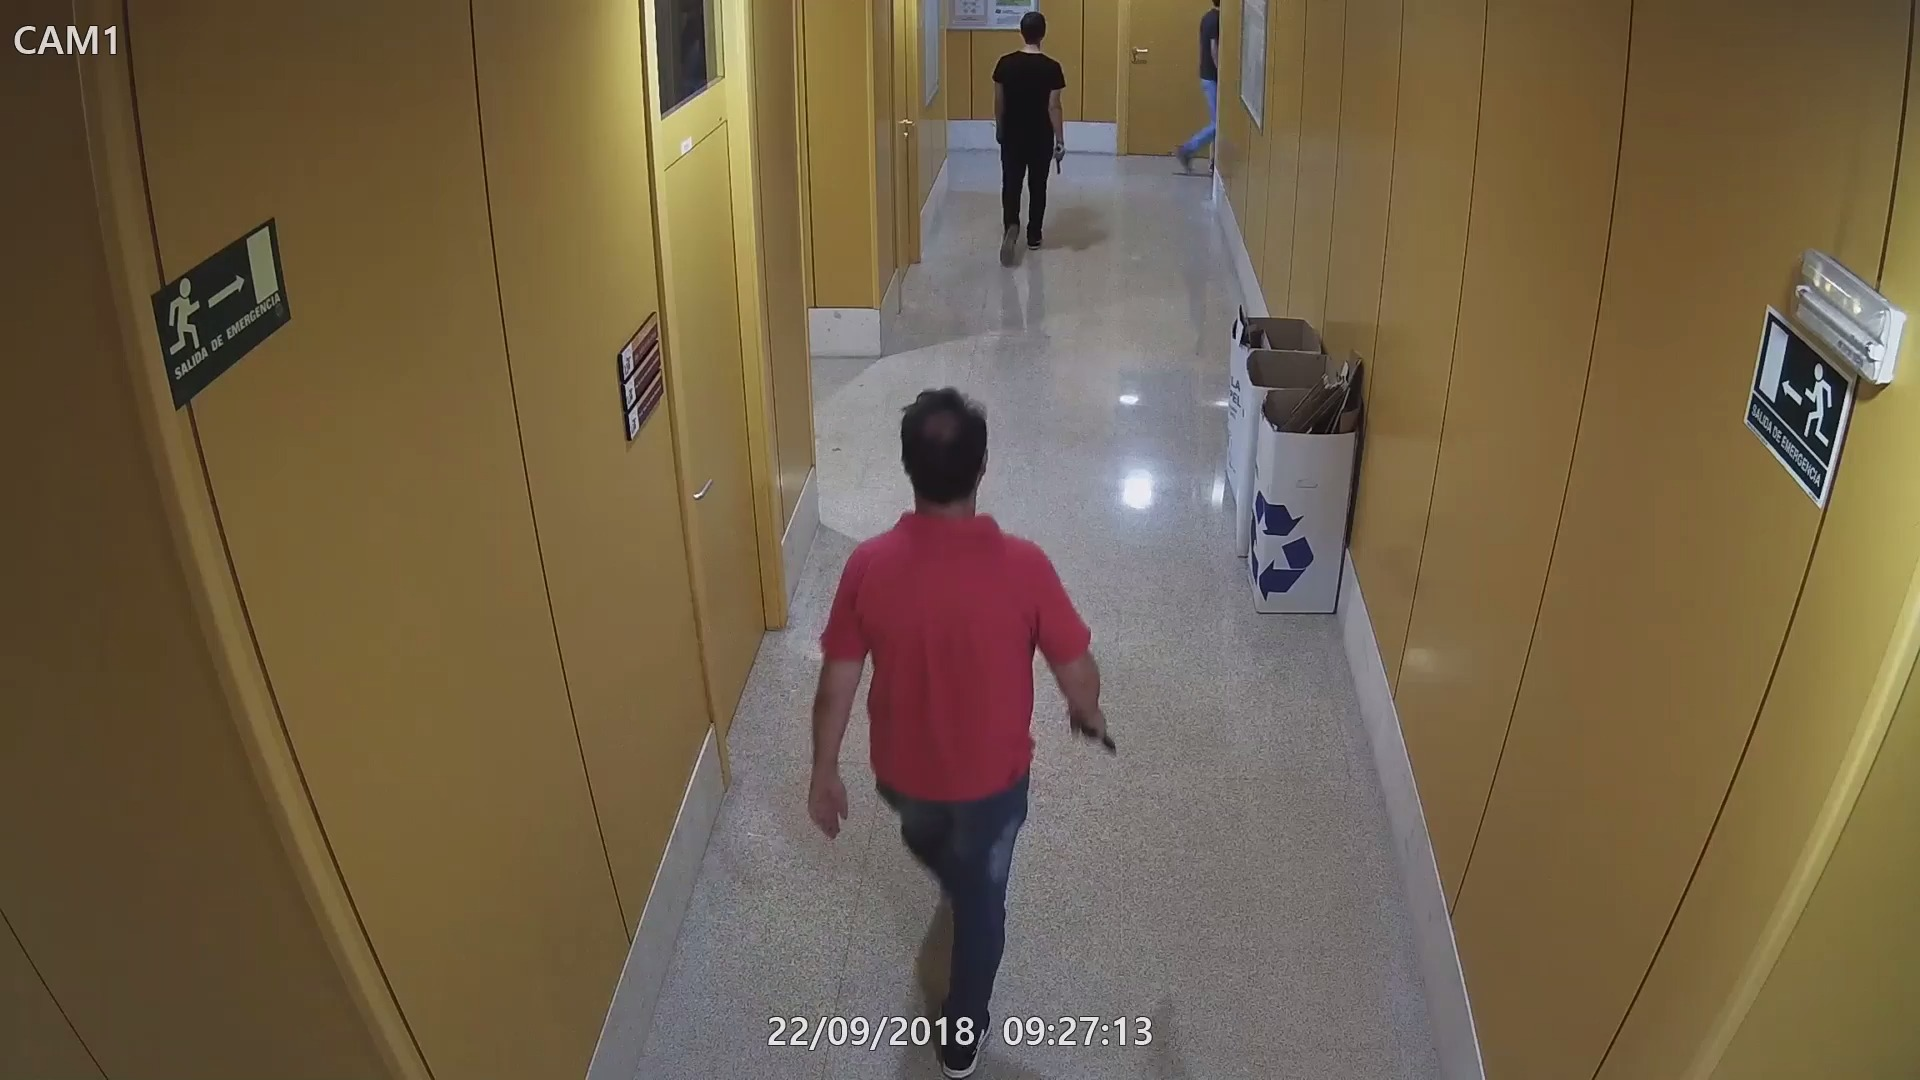Handgun: (1063, 707, 1120, 764), (1044, 141, 1072, 173)
